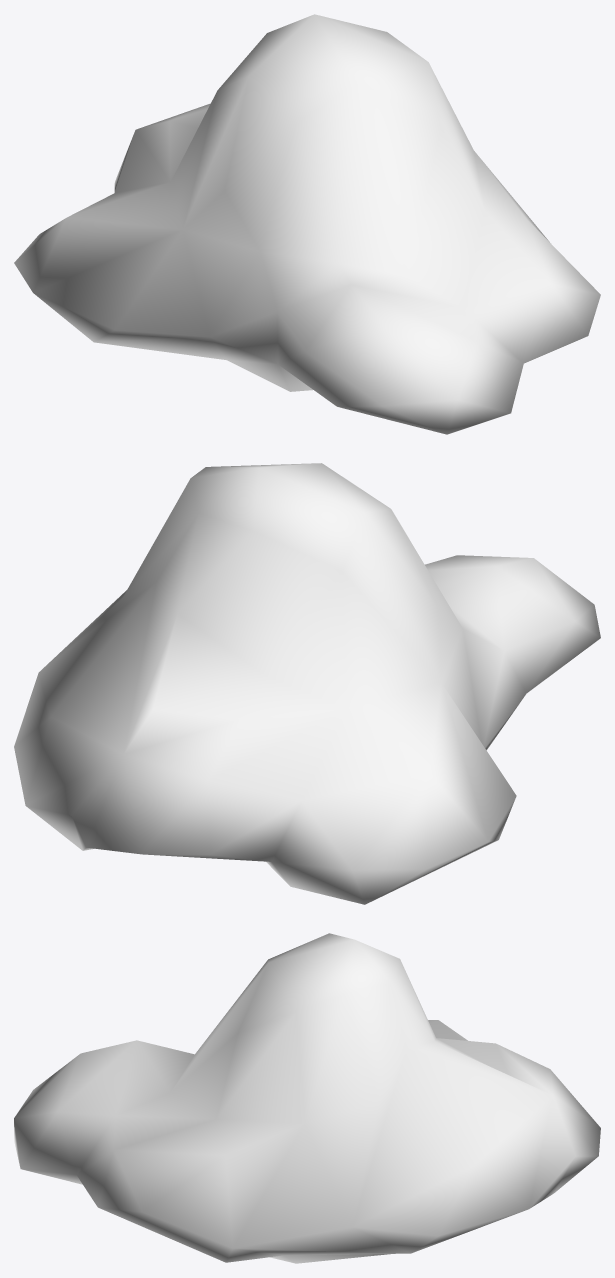
Rendered from SM_Cloud_02.fbx.
3 views of the same model, one above another, from view 1: azimuth 30°, elevation 25°; view 2: azimuth 150°, elevation 25°; view 3: azimuth 270°, elevation 25° (orthographic). The views are drawn at different scales.
Visible parts, largest first — view 1: SM_Cloud_02; view 2: SM_Cloud_02; view 3: SM_Cloud_02.
Boxes of the visible parts, x1,y1,x2,y2 form: SM_Cloud_02: (14, 14, 600, 434); SM_Cloud_02: (14, 463, 600, 904); SM_Cloud_02: (14, 933, 600, 1263).
Size of the model in its own units: 5.79 by 3.93 by 7.63.
